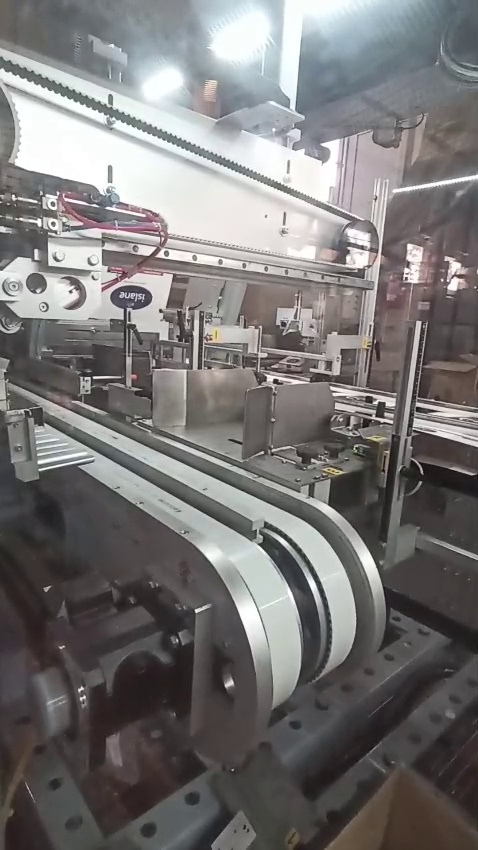savon: (321, 769, 478, 850), (0, 738, 32, 826), (365, 434, 390, 472), (284, 832, 304, 850), (321, 465, 346, 479), (436, 369, 448, 398), (209, 329, 220, 344)
